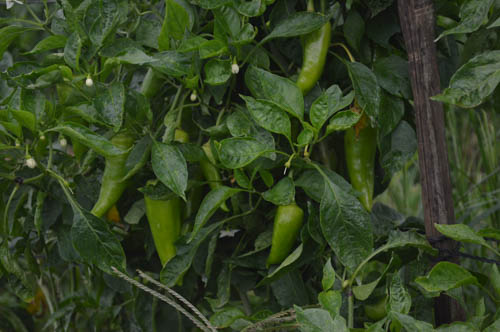ChiliPepper: (345, 90, 388, 218), (139, 183, 191, 284), (85, 131, 135, 226), (292, 10, 340, 104), (261, 197, 304, 273), (198, 138, 232, 216)
